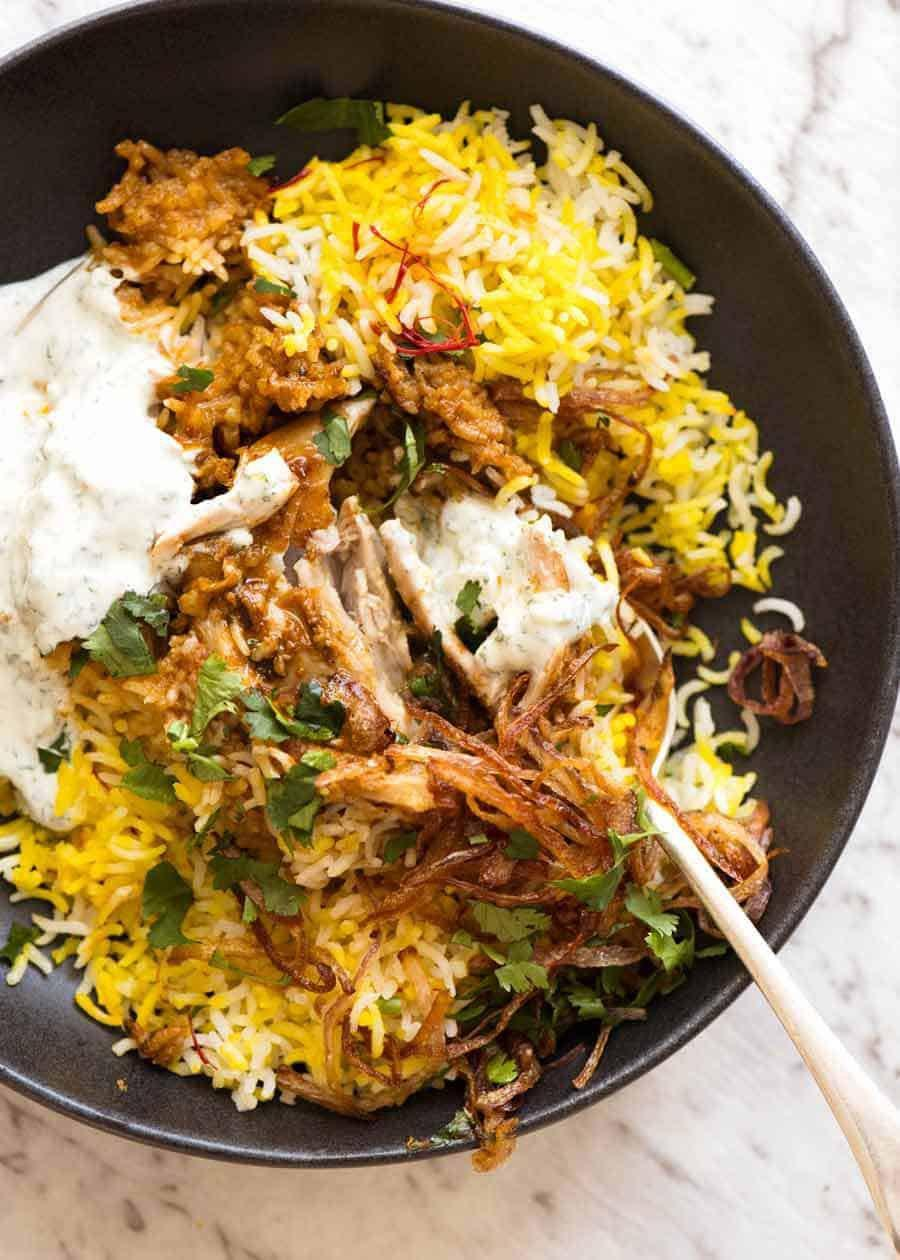Biryani: (0, 78, 900, 1167)
